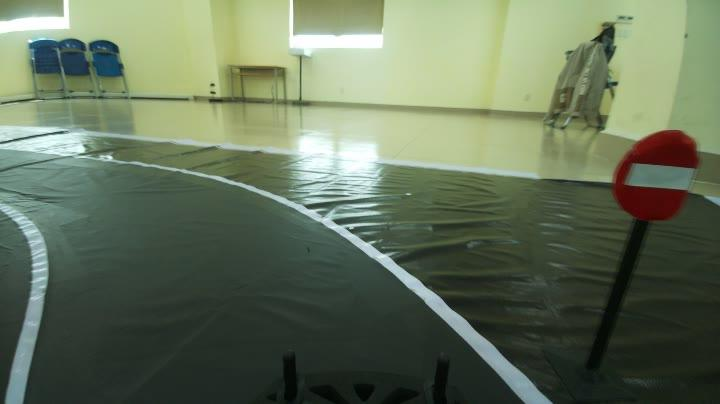no_entry: (622, 121, 700, 220)
